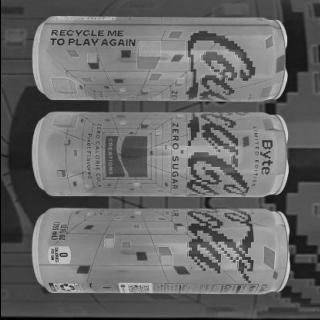alumunium_can: (31, 107, 292, 201), (31, 206, 291, 299), (30, 15, 289, 107)
